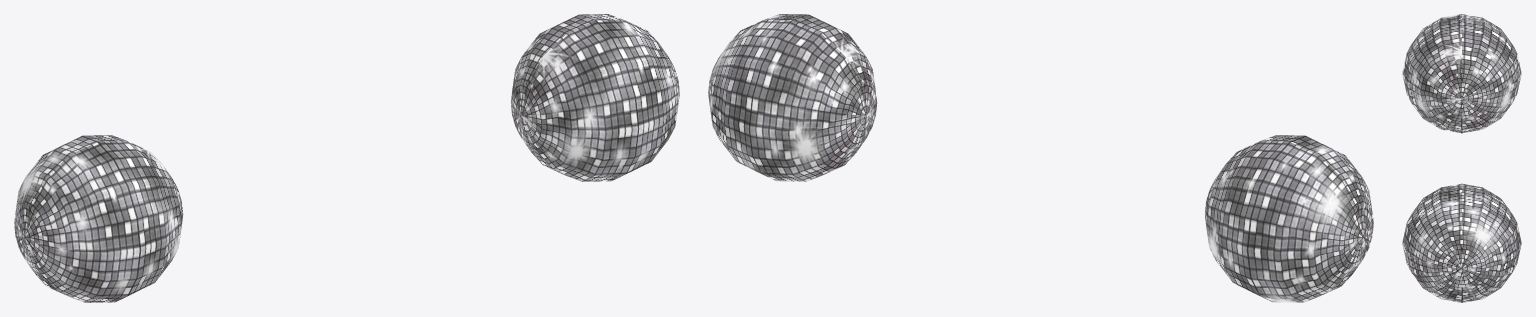
File: lamp_dragon's_eyes.glb
The picture shows the model from 3 angles, left to right: view 1: azimuth 30°, elevation 25°; view 2: azimuth 150°, elevation 25°; view 3: azimuth 270°, elevation 25°; orthographic projection. The views are drawn at different scales.
Parts seen in each view (by area): view 1: Lamp Dragon's Eyes; view 2: Lamp Dragon's Eyes; view 3: Lamp Dragon's Eyes.
Part boxes in pixels (x1,y1,x2,y2): Lamp Dragon's Eyes: (14, 14, 679, 302); Lamp Dragon's Eyes: (708, 14, 1373, 302); Lamp Dragon's Eyes: (1402, 14, 1521, 302).
Size of what is drawn, in the model's own units: 2.72 by 0.6234 by 0.6234.
1 material, 1 textured.
